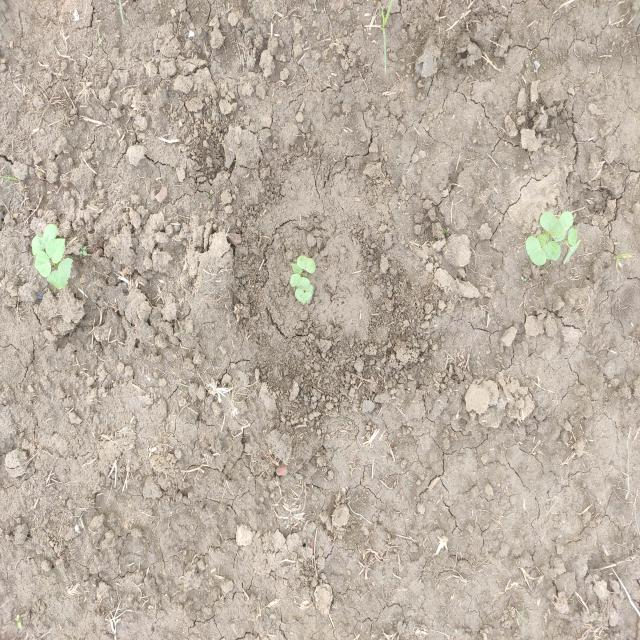seedling: (31, 224, 58, 256), (47, 258, 73, 289), (525, 236, 546, 266), (540, 212, 564, 238), (553, 211, 573, 241), (46, 238, 65, 264), (34, 251, 52, 278), (563, 239, 580, 265), (542, 241, 561, 261), (297, 255, 315, 273), (290, 274, 310, 289), (295, 288, 312, 304), (537, 232, 549, 247), (568, 227, 577, 246), (291, 264, 302, 275), (303, 285, 314, 294)
